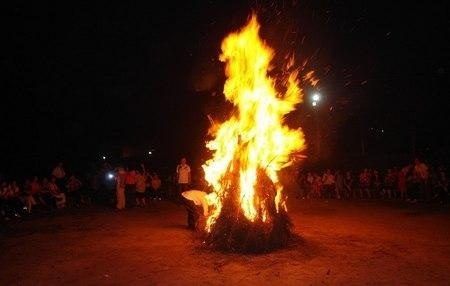fire: (201, 10, 310, 224)
